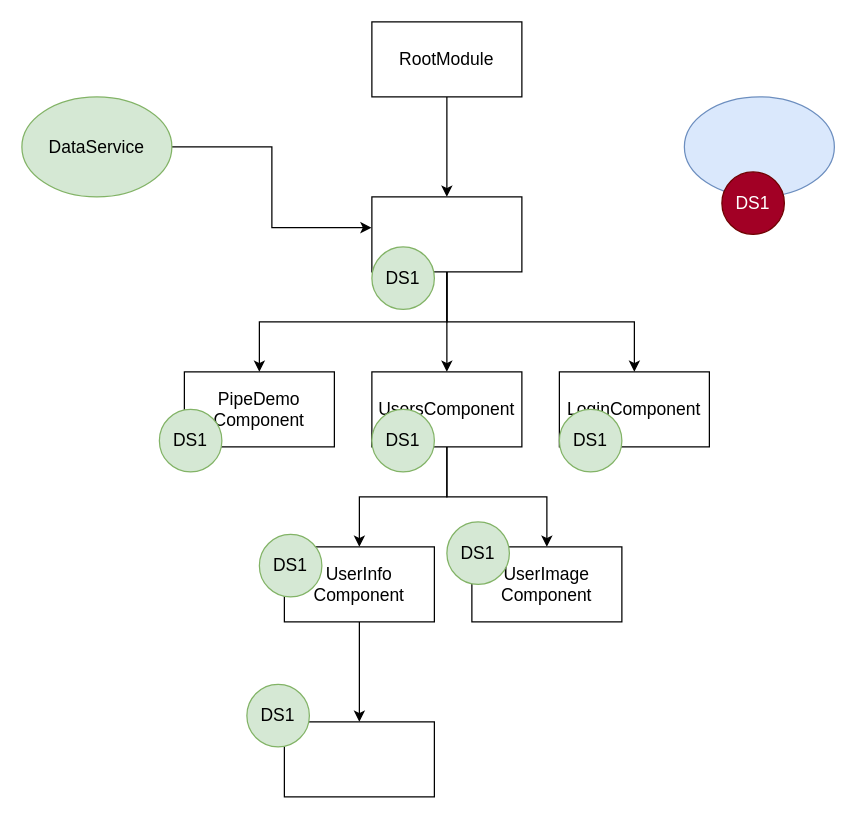
This 856x819 diagram has some shape labels left out. Each missing label, with the centre of its shape:
AuthService: the point at 758,146
CommentForm Component: the point at 358,759
RootComponent: the point at 446,234
